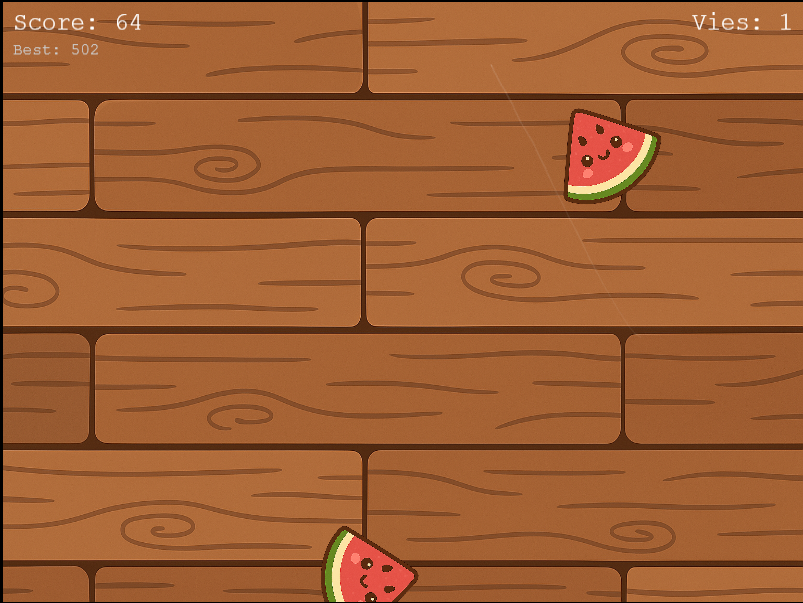fruit: (555, 105, 662, 210), (315, 520, 422, 603)
